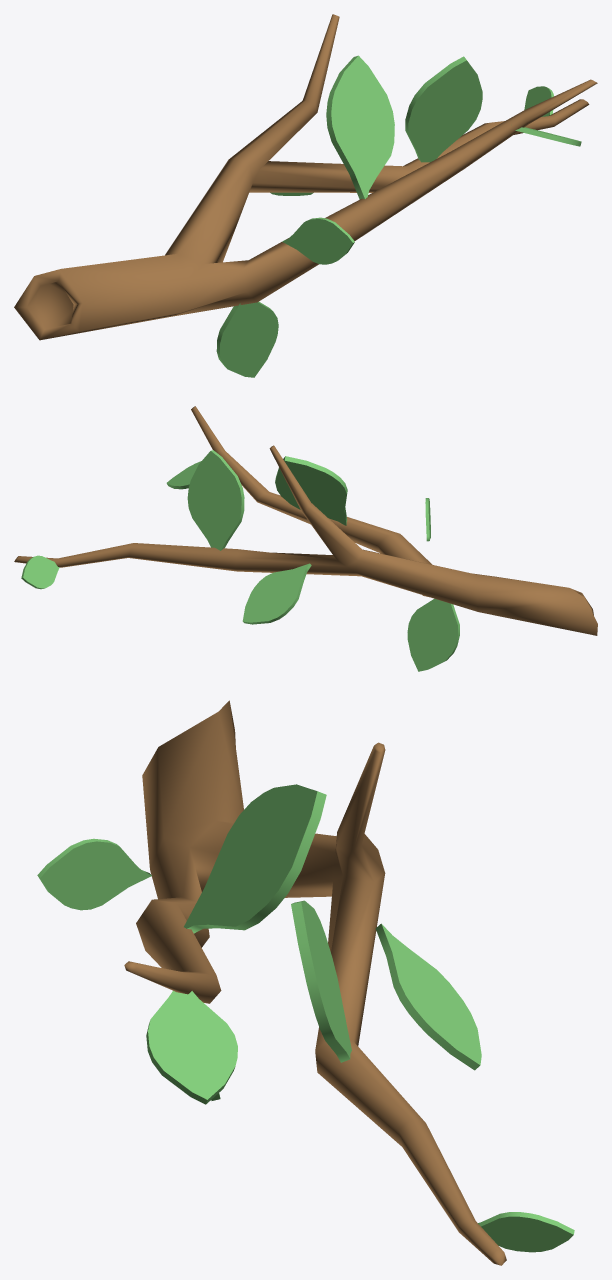
Rendered from Branch.fbx.
3 renders of one model, top to bottom at view 1: azimuth 30°, elevation 25°; view 2: azimuth 150°, elevation 25°; view 3: azimuth 270°, elevation 25°, orthographic. The views are drawn at different scales.
Visible parts, largest first — view 1: Branch; view 2: Branch; view 3: Branch.
Boxes of the visible parts, x1,y1,x2,y2 form: Branch: (14, 14, 597, 377); Branch: (14, 406, 597, 671); Branch: (37, 700, 574, 1265).
Bounding box in the file's own units: 31.62 × 13.44 × 14.21.
